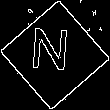N_S: (33, 28, 77, 82)
